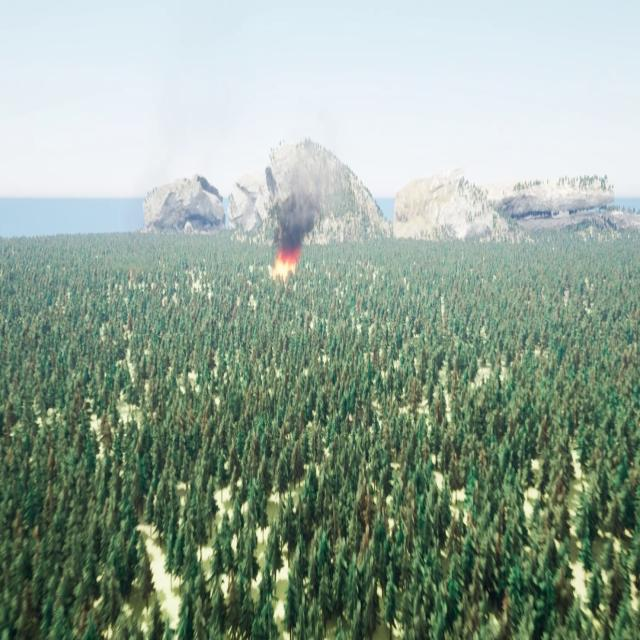fire: (270, 247, 300, 278)
smoke: (276, 175, 322, 245)
